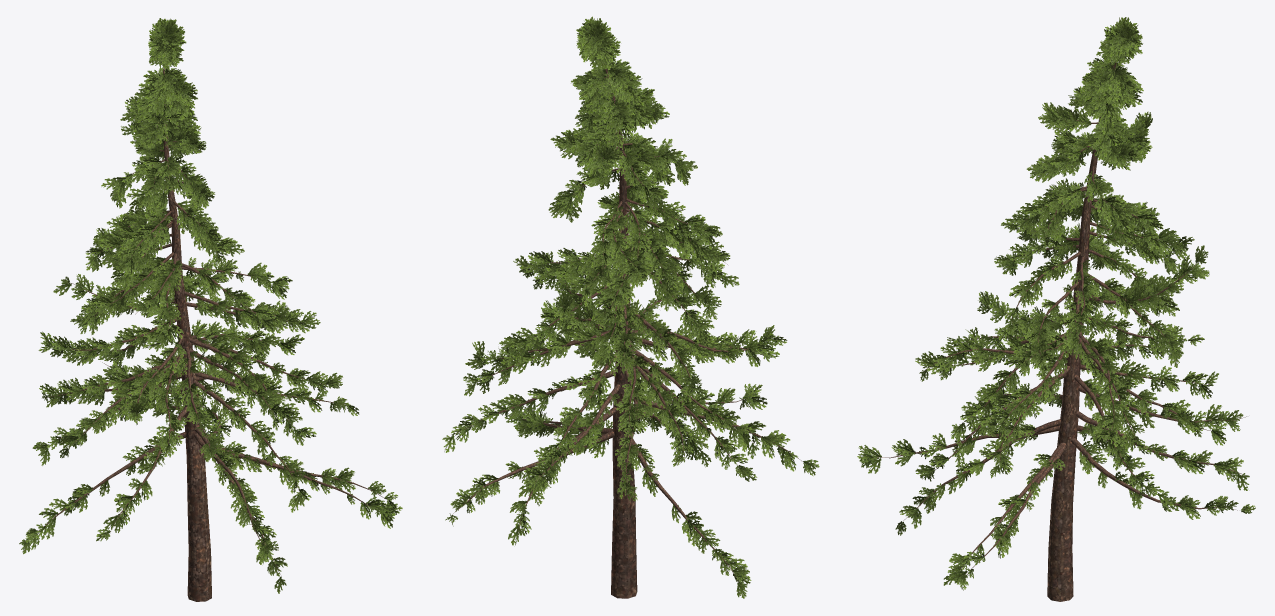
Rendered from pine.glb.
The picture shows the model from 3 angles, left to right: view 1: azimuth 30°, elevation 25°; view 2: azimuth 150°, elevation 25°; view 3: azimuth 270°, elevation 25°; orthographic projection. The views are drawn at different scales.
Visible parts, largest first — view 1: Tree; view 2: Tree; view 3: Tree.
Part boxes in pixels (x1=…): Tree: x1=19, y1=18, x2=402, y2=601; Tree: x1=442, y1=16, x2=819, y2=598; Tree: x1=857, y1=17, x2=1255, y2=601.
Bounding box in the file's own units: 29.25 × 51.1 × 32.77.
2 materials, 2 textured.
